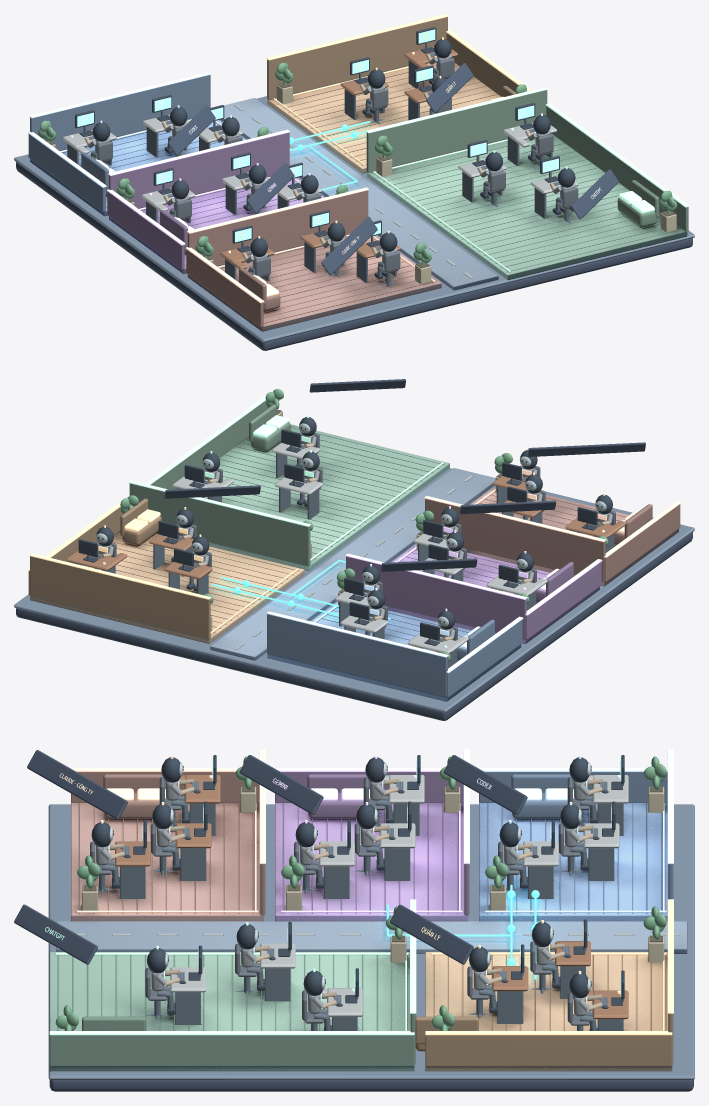
File: office_scene.glb
3 views of the same model, one above another, from view 1: azimuth 30°, elevation 25°; view 2: azimuth 150°, elevation 25°; view 3: azimuth 270°, elevation 25° (orthographic). The views are drawn at different scales.
Parts seen in each view (by area): view 1: Floors · baked lighting, Foundation silver edge, Office foundation · no background, CHATGPT back wall, QUẢN LÝ back wall, GEMINI back wall, CLAUDE back wall, CODEX back wall, CHATGPT outer low wall, GEMINI outer low wall, CLAUDE outer low wall, CODEX outer low wall (+13 smaller); view 2: Floors · baked lighting, Foundation silver edge, QUẢN LÝ back wall, CODEX back wall, Office foundation · no background, CHATGPT back wall, GEMINI back wall, CLAUDE back wall, CLAUDE outer low wall, CODEX outer low wall, GEMINI outer low wall, CHATGPT outer low wall (+13 smaller); view 3: Floors · baked lighting, Foundation silver edge, CHATGPT outer low wall, QUẢN LÝ outer low wall, Office foundation · no background, CLAUDE room sign, CHATGPT room sign, GEMINI room sign, CODEX room sign, QUẢN LÝ room sign, CHATGPT outer wall cap, CODEX outer low wall (+48 smaller).
Part boxes in pixels (x1,y1,x2,y2): Floors · baked lighting: (30,62,687,331); Foundation silver edge: (14,96,694,342); Office foundation · no background: (16,162,692,350); CHATGPT back wall: (366,90,547,172); QUẢN LÝ back wall: (267,17,447,99); GEMINI back wall: (108,132,289,208); CLAUDE back wall: (187,190,368,266); CODEX back wall: (30,75,210,150); CHATGPT outer low wall: (546,106,688,231); GEMINI outer low wall: (107,191,184,269); CLAUDE outer low wall: (186,249,263,327); CODEX outer low wall: (28,134,105,211); Floors · baked lighting: (30,424,678,701); Foundation silver edge: (14,468,694,712); QUẢN LÝ back wall: (30,556,210,639); CODEX back wall: (267,614,447,696); Office foundation · no background: (16,532,692,720); CHATGPT back wall: (129,483,310,566); GEMINI back wall: (346,556,526,639); CLAUDE back wall: (425,499,605,581); CLAUDE outer low wall: (604,504,680,581); CODEX outer low wall: (446,619,522,697); GEMINI outer low wall: (525,562,601,639); CHATGPT outer low wall: (151,400,267,489); Floors · baked lighting: (49,803,687,1071); Foundation silver edge: (48,804,694,1080); CHATGPT outer low wall: (49,1035,414,1066); QUẢN LÝ outer low wall: (425,1035,672,1066); Office foundation · no background: (49,1080,693,1091); CLAUDE room sign: (27,750,127,819); CHATGPT room sign: (14,904,97,964); GEMINI room sign: (239,755,323,814); CODEX room sign: (443,755,527,814); QUẢN LÝ room sign: (390,904,473,964); CHATGPT outer wall cap: (49,1031,414,1035); CODEX outer low wall: (479,772,667,802).
Size of the model in its own units: 12.04 by 2.18 by 12.68.
28 materials, 1 textured.
